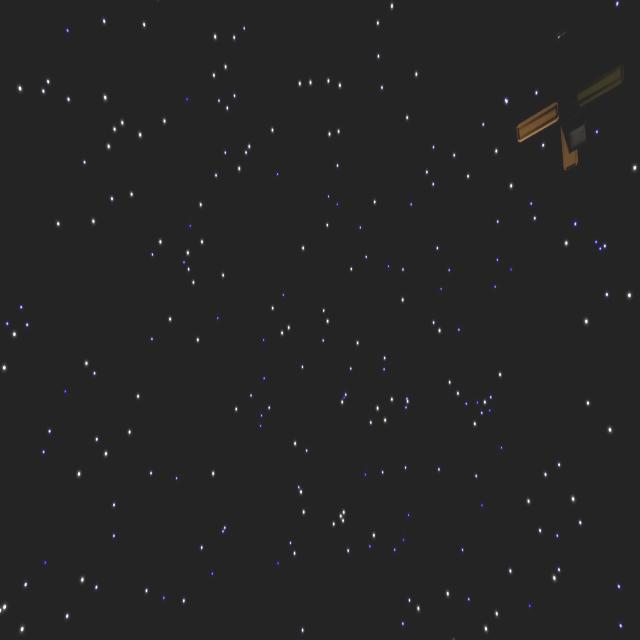satellite: (506, 51, 626, 174)
